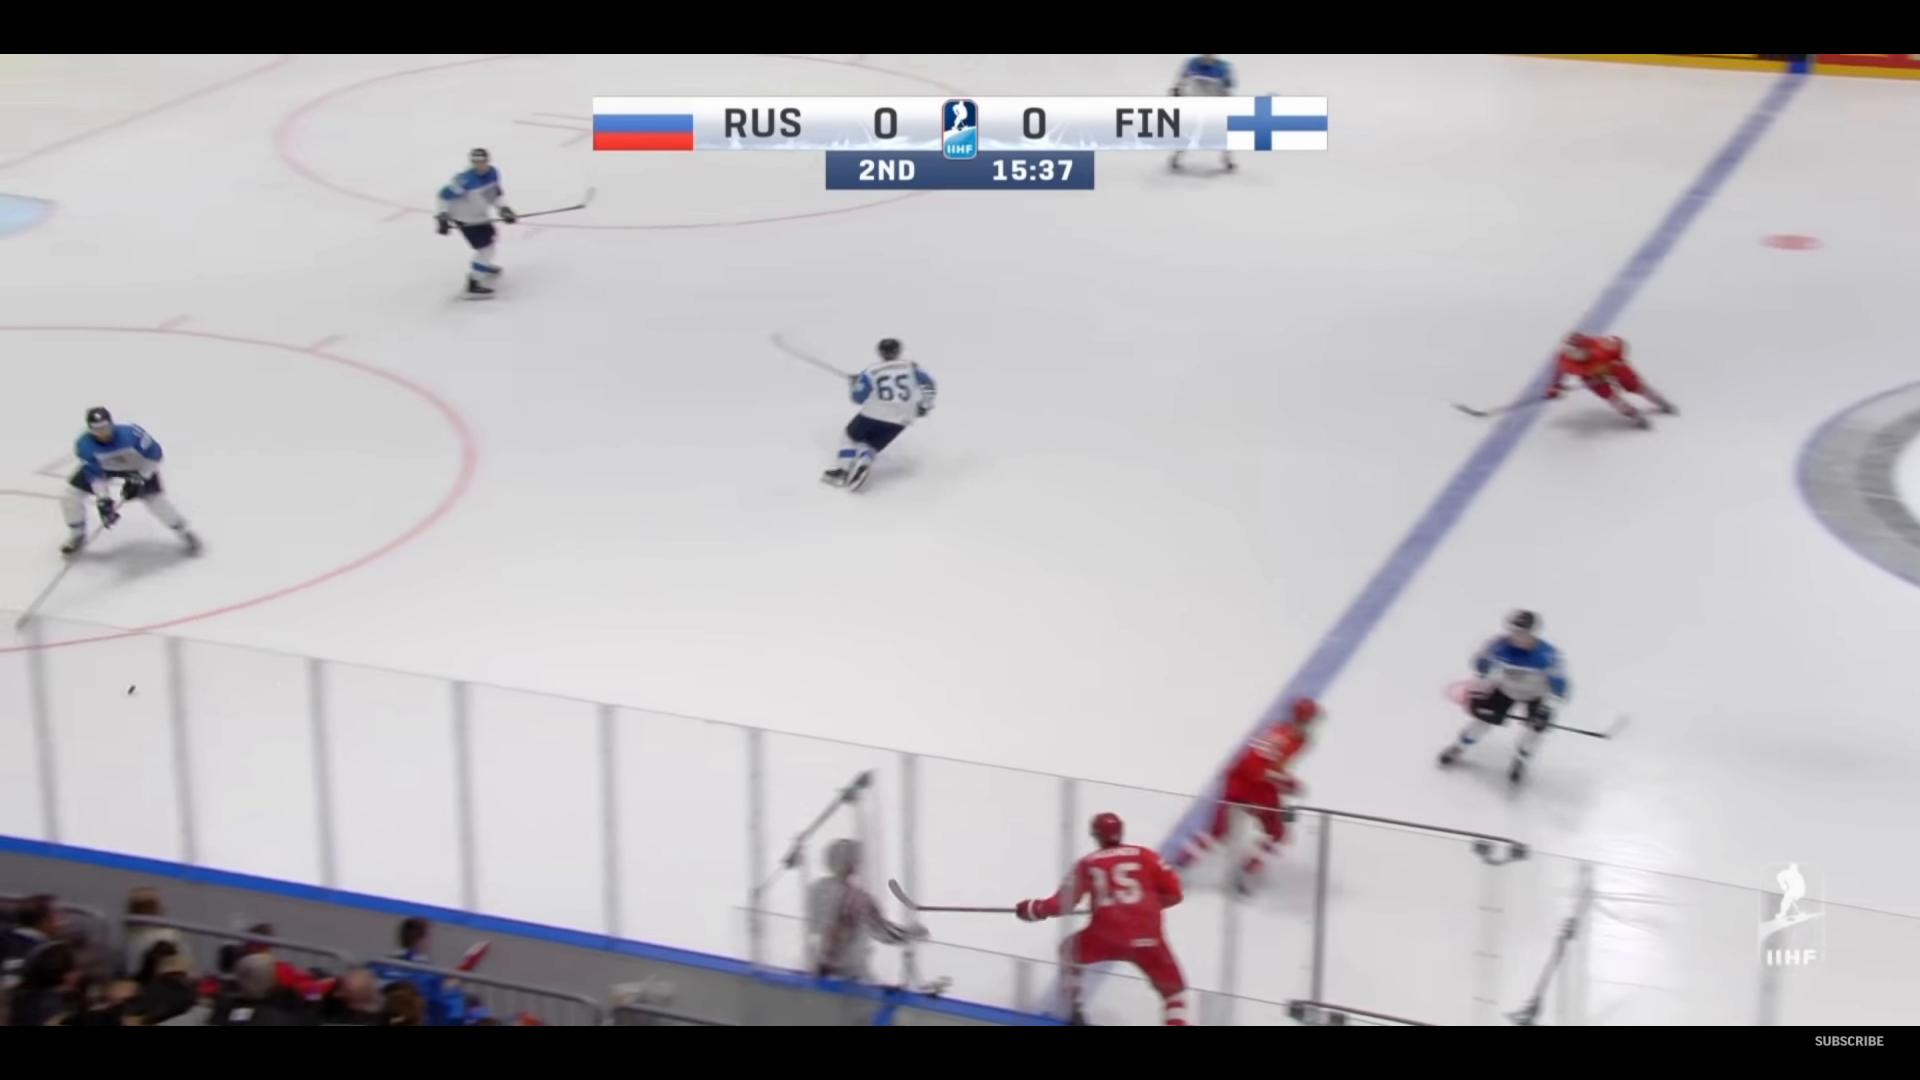puck: (128, 684, 136, 694)
